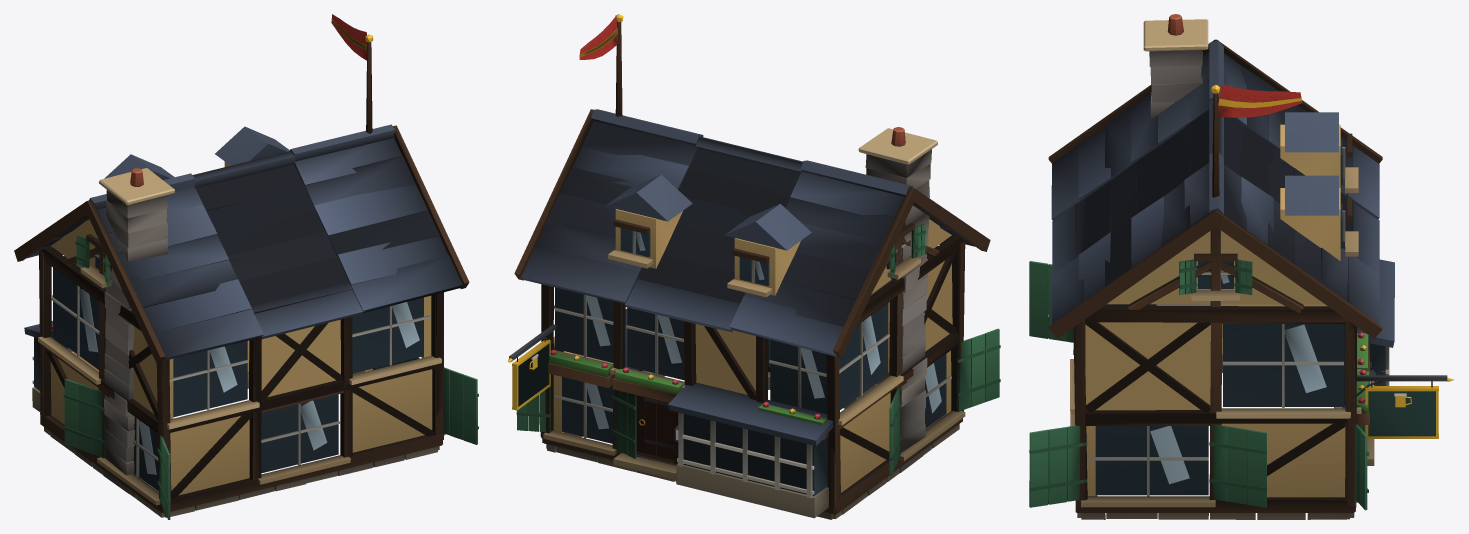
Rendered from HD_Tavern.fbx.
3 renders of one model, left to right at view 1: azimuth 30°, elevation 25°; view 2: azimuth 150°, elevation 25°; view 3: azimuth 270°, elevation 25°, orthographic. The views are drawn at different scales.
Parts seen in each view (by area): view 1: HD_Tavern_6_Slate, HD_Tavern_3_Wood, HD_Tavern_2_SmoothPlastic, HD_Tavern_1_Sandstone, HD_Tavern_7_Cobblestone, HD_Tavern_4_Wood; view 2: HD_Tavern_6_Slate, HD_Tavern_2_SmoothPlastic, HD_Tavern_3_Wood, HD_Tavern_1_Sandstone, HD_Tavern_7_Cobblestone, HD_Tavern_4_Wood, HD_Tavern_5_Metal; view 3: HD_Tavern_6_Slate, HD_Tavern_2_SmoothPlastic, HD_Tavern_3_Wood, HD_Tavern_1_Sandstone, HD_Tavern_4_Wood, HD_Tavern_7_Cobblestone, HD_Tavern_5_Metal.
Part boxes in pixels (x1,y1,x2,y2): HD_Tavern_6_Slate: (24,124,462,360); HD_Tavern_3_Wood: (14,125,478,519); HD_Tavern_2_SmoothPlastic: (34,14,432,495); HD_Tavern_1_Sandstone: (32,168,445,517); HD_Tavern_7_Cobblestone: (103,190,168,493); HD_Tavern_4_Wood: (366,42,372,133); HD_Tavern_6_Slate: (520,109,974,446); HD_Tavern_2_SmoothPlastic: (549,16,952,495); HD_Tavern_3_Wood: (514,109,1000,514); HD_Tavern_1_Sandstone: (543,128,965,519); HD_Tavern_7_Cobblestone: (858,149,931,472); HD_Tavern_4_Wood: (518,22,769,406); HD_Tavern_5_Metal: (507,14,678,449); HD_Tavern_6_Slate: (1051,40,1394,347); HD_Tavern_2_SmoothPlastic: (1085,14,1385,497); HD_Tavern_3_Wood: (1029,39,1389,512); HD_Tavern_1_Sandstone: (1070,19,1374,519); HD_Tavern_4_Wood: (1179,93,1435,436); HD_Tavern_7_Cobblestone: (1149,50,1210,305); HD_Tavern_5_Metal: (1211,85,1454,438).
Bounding box in the file's own units: 27.7 × 31.6 × 28.32.
